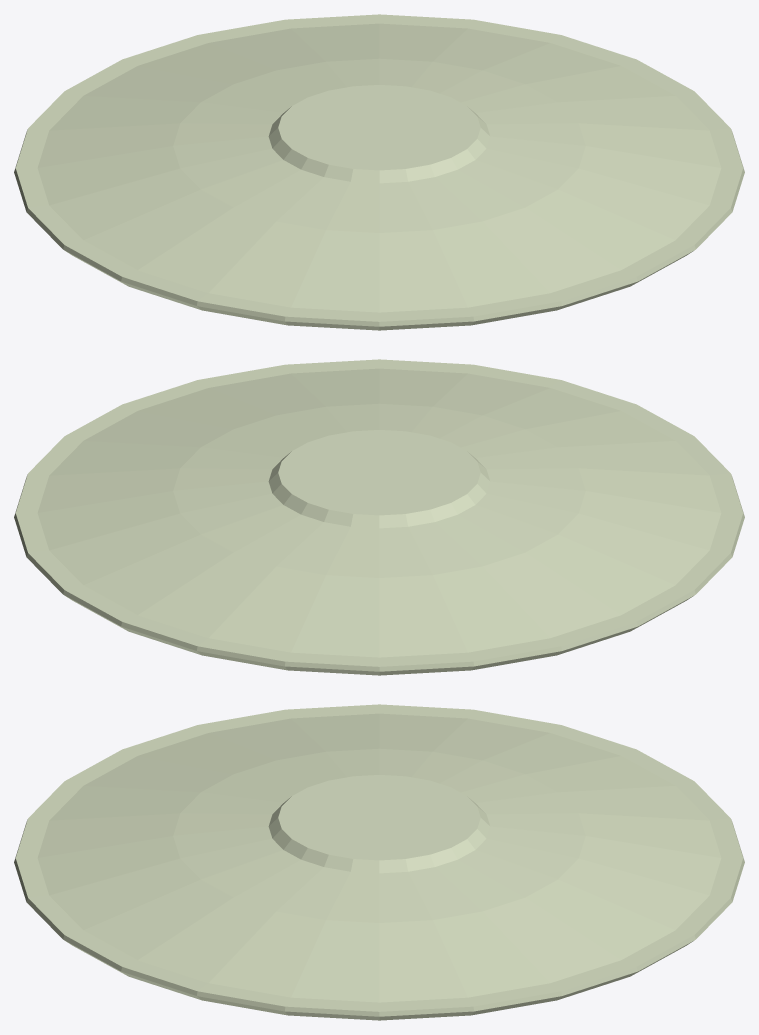
File: rooft_low.fbx
The picture shows the model from 3 angles, top to bottom: view 1: azimuth 30°, elevation 25°; view 2: azimuth 150°, elevation 25°; view 3: azimuth 270°, elevation 25°; orthographic projection.
Parts seen in each view (by area): view 1: center_roof; view 2: center_roof; view 3: center_roof.
Part boxes in pixels (x1,y1,x2,y2): center_roof: (14, 14, 744, 330); center_roof: (14, 359, 744, 675); center_roof: (14, 704, 744, 1020).
Size of the model in its own units: 2574 by 276 by 2574.
